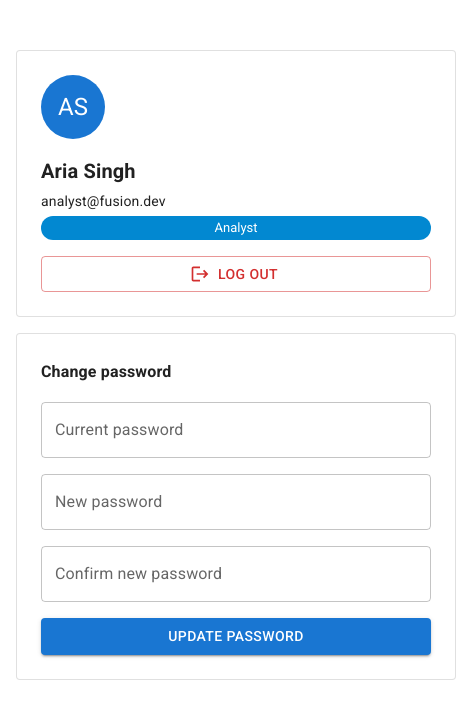
Test: ProfilePage › validates the change-password form
Step 1. Click the button "Update password" → [236, 636], box [41, 618, 431, 654]
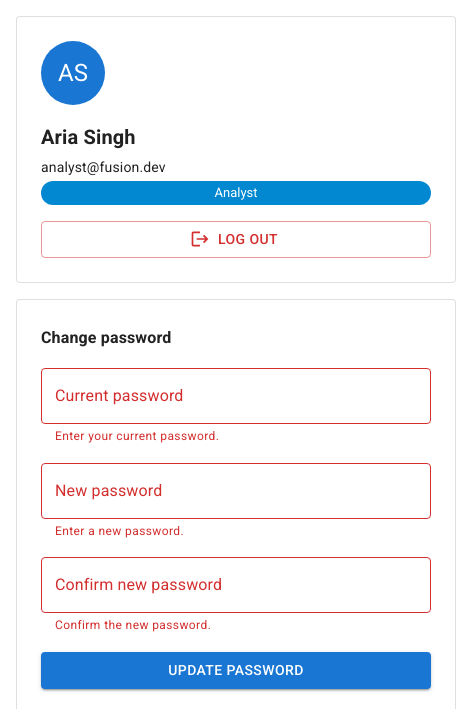
Expected: the text "Enter your current password." is shown, [55, 429, 219, 443]
Expected: the text "Enter a new password." is shown, [55, 524, 184, 538]
Expected: the text "Confirm the new password." is shown, [55, 618, 211, 632]
